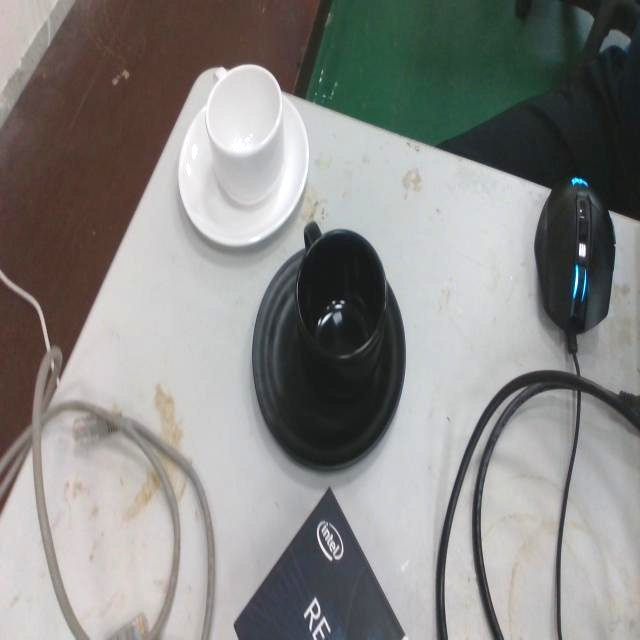black: (249, 217, 409, 478)
white: (177, 60, 311, 252)
